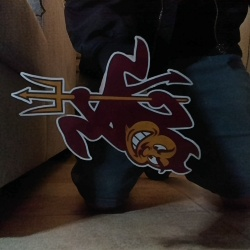sparky: (10, 35, 200, 174)
